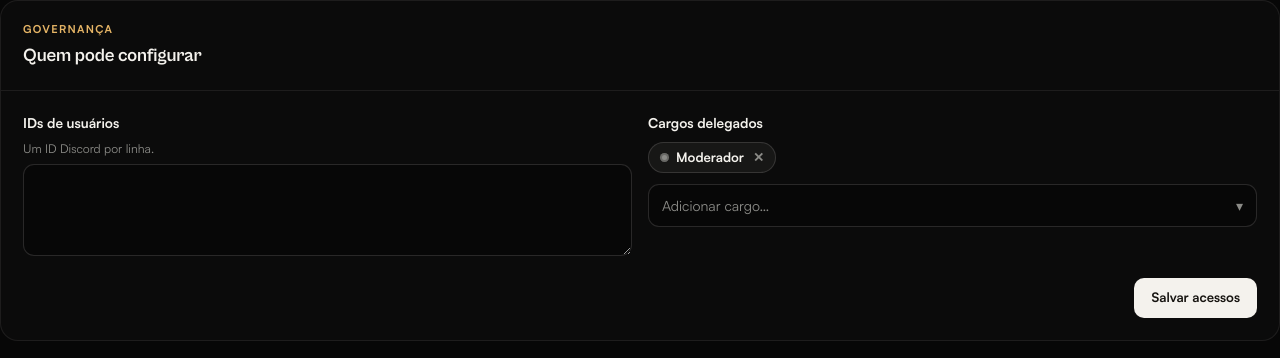
Test: AccessEditor › renders selected roles as chips (no @) and removes one
Expected: the text "Moderador" is shown, 676,148 -> 744,167
Click the button named "Remover Moderador". click: click(758, 157)
box: 751,151 -> 764,164
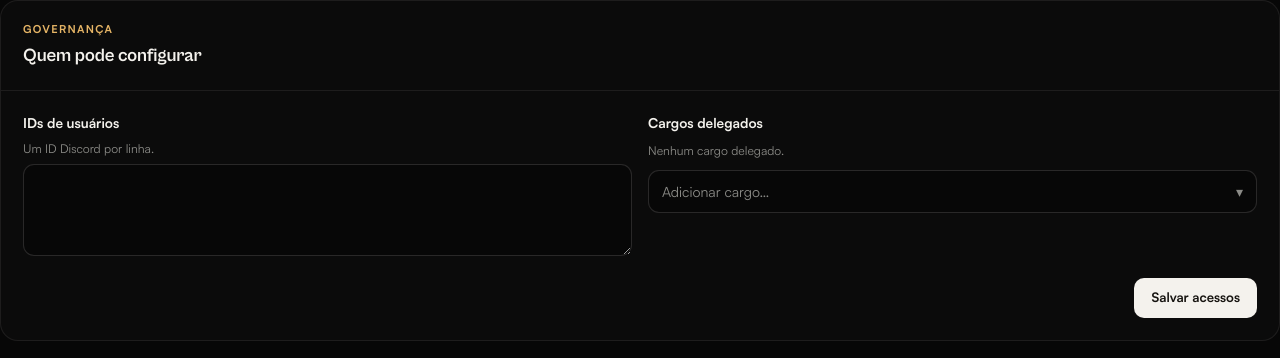
Now the text "Moderador" is gone
